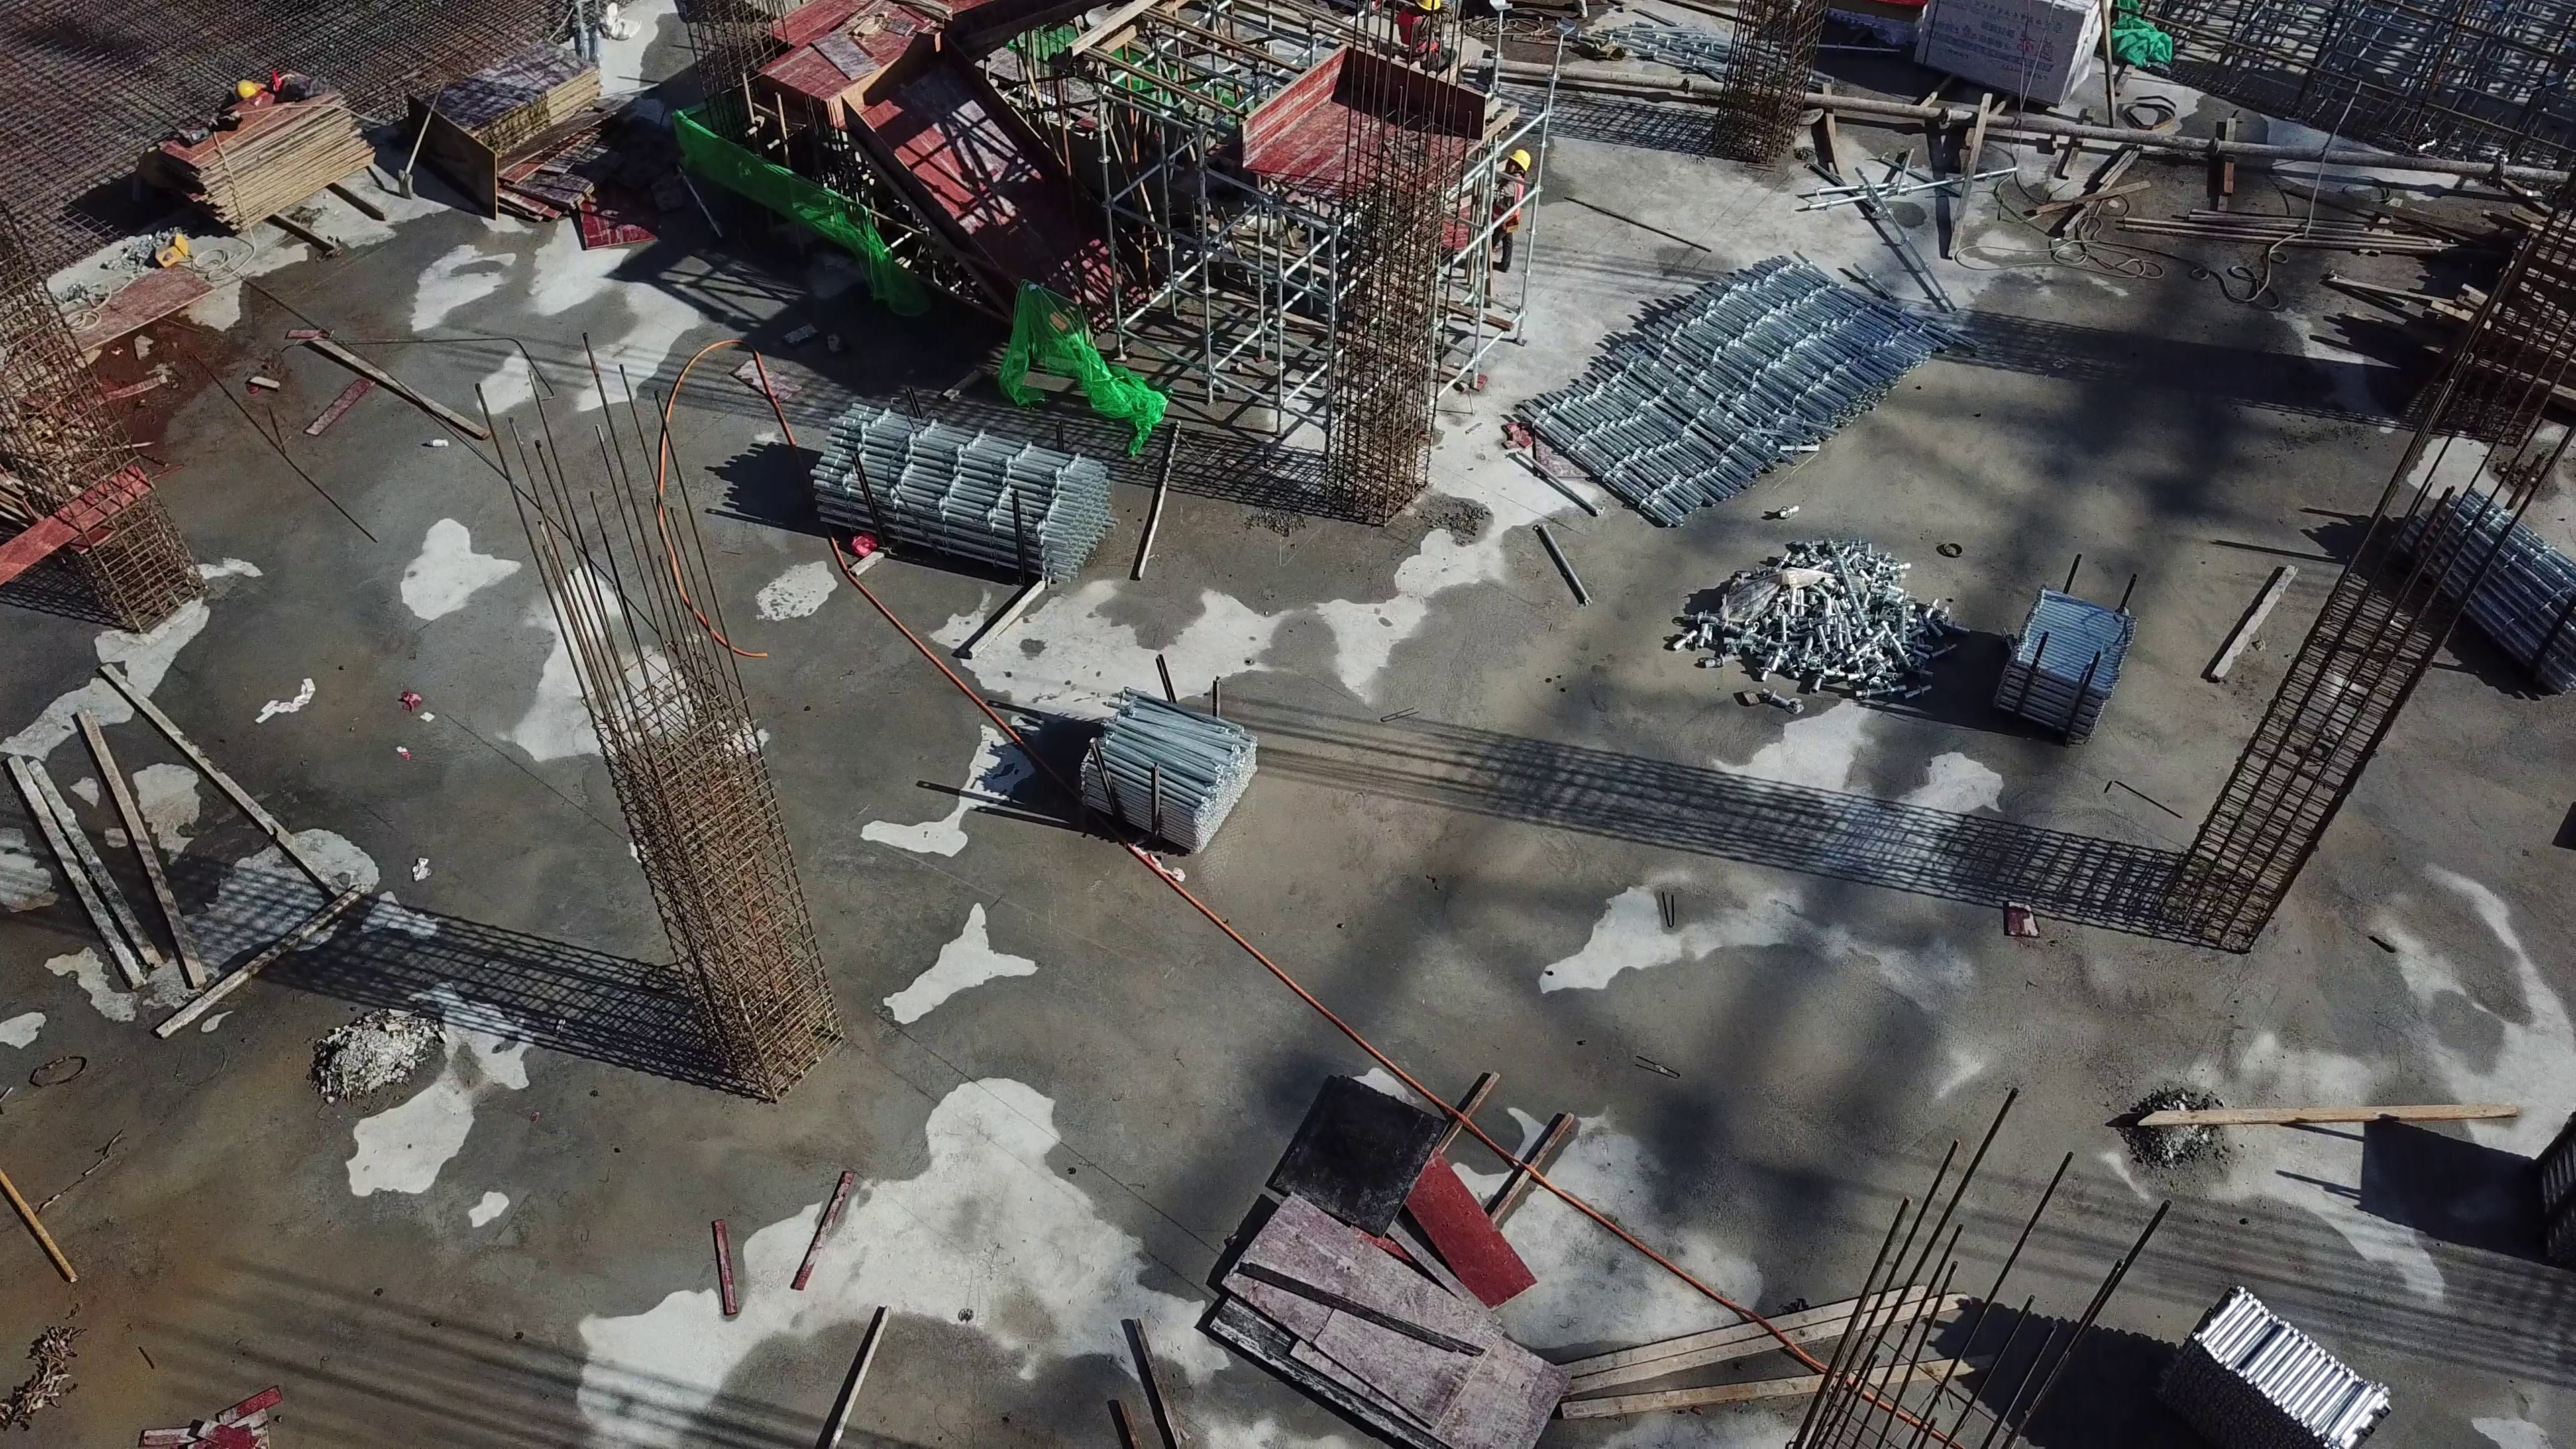board: (146, 76, 379, 243), (420, 39, 600, 223)
person: (1481, 138, 1537, 249)
scaffold: (1501, 260, 1948, 519), (808, 386, 1120, 599), (2398, 474, 2576, 690), (2188, 1296, 2404, 1449), (1079, 686, 1257, 861), (2004, 576, 2135, 751)
